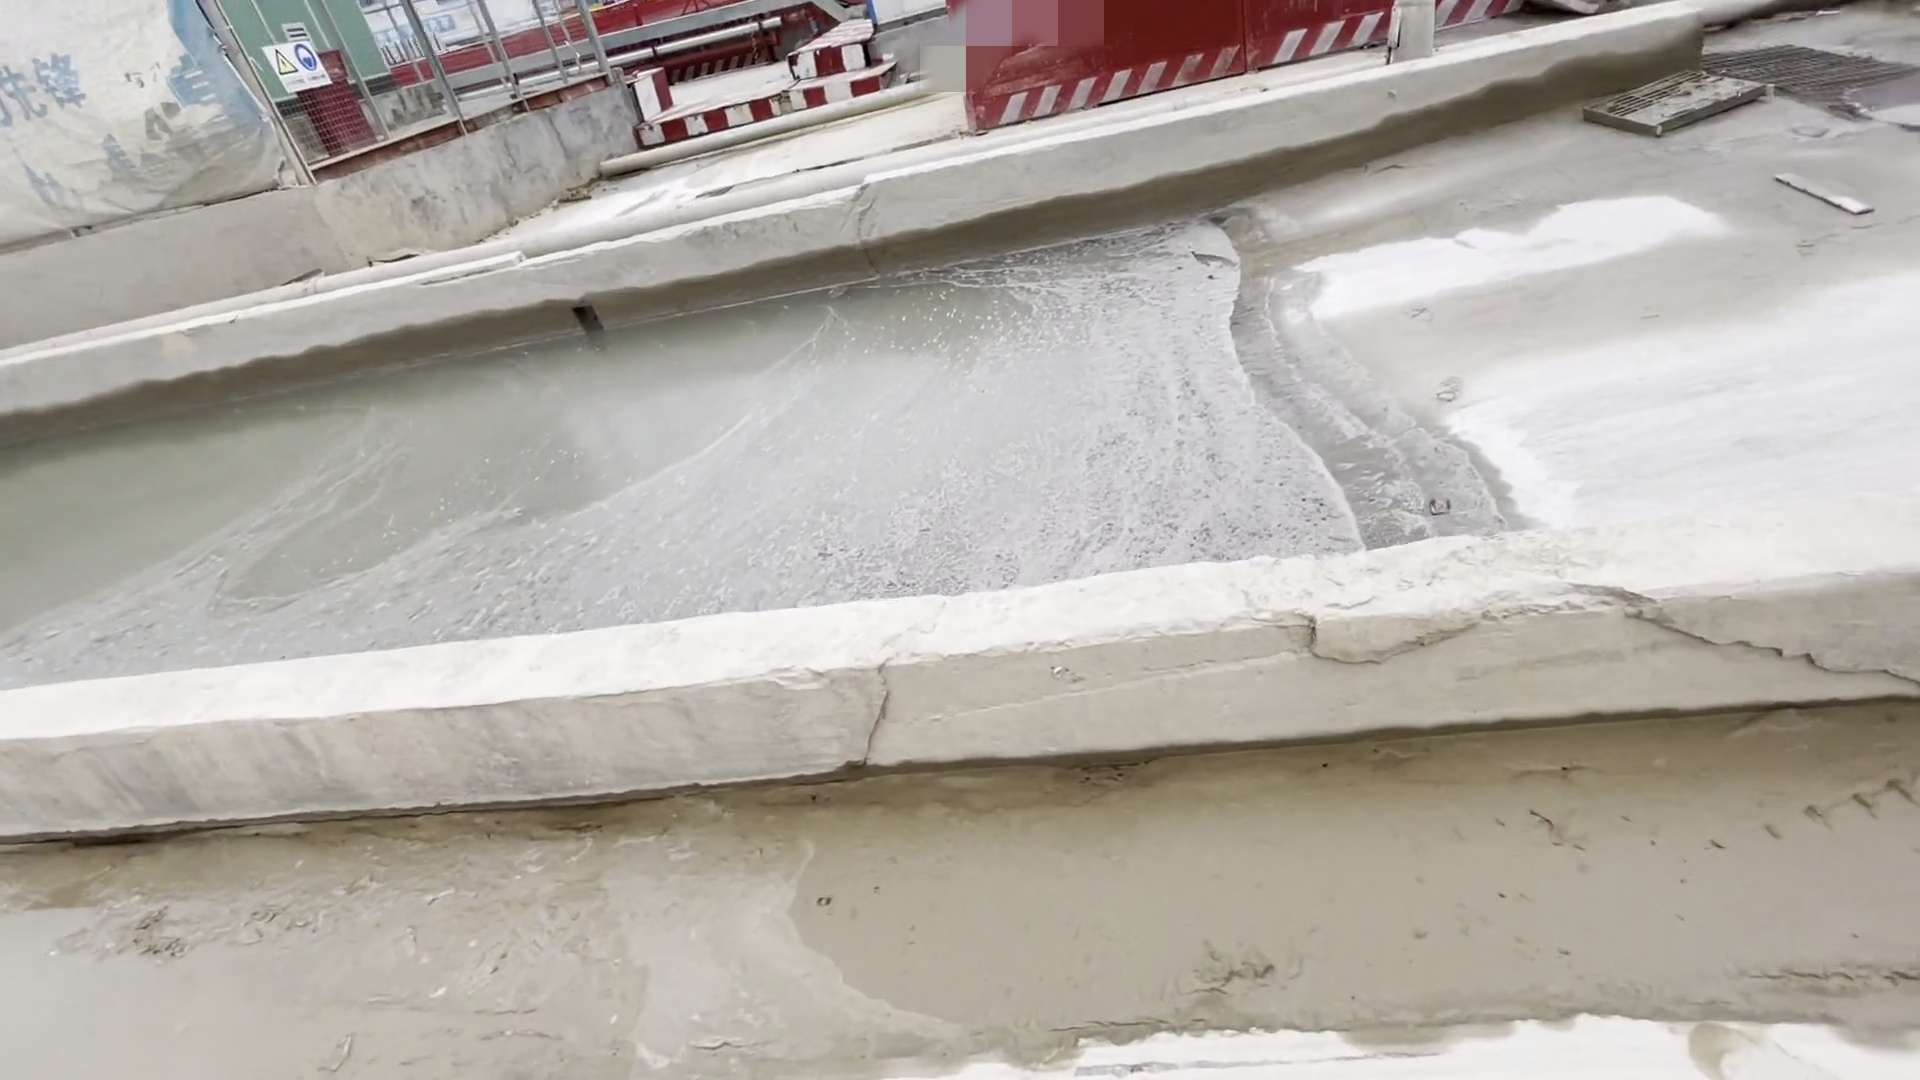slogan: (1, 17, 117, 127)
